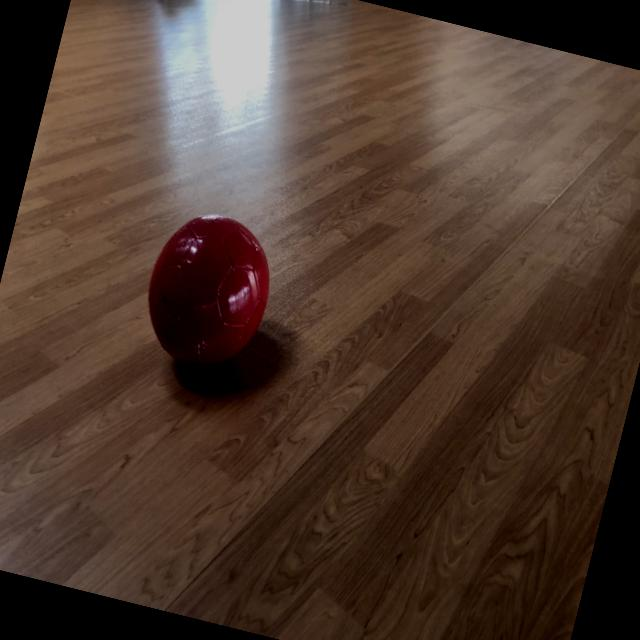red_ball: (132, 202, 282, 382)
